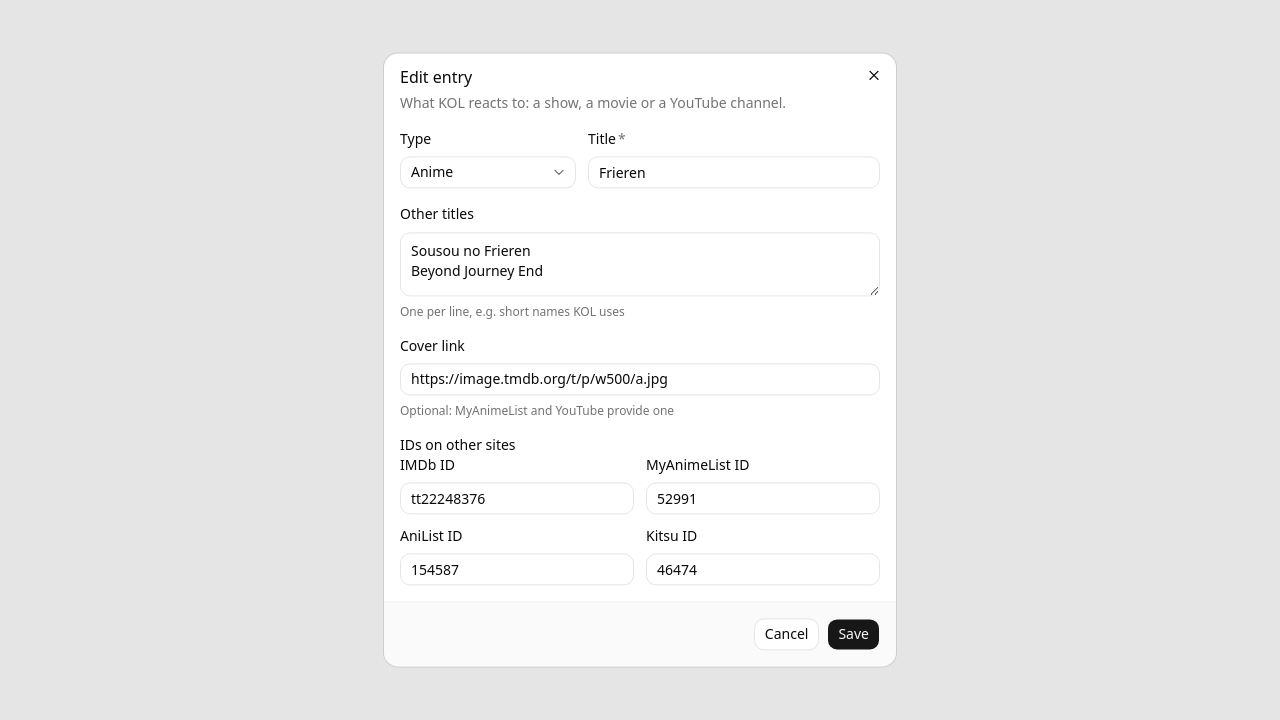
entryEditorDialog › shows why saving failed, under the form, and stays open
Click the button "Save".
click(854, 635)  # box [827,619,880,651]
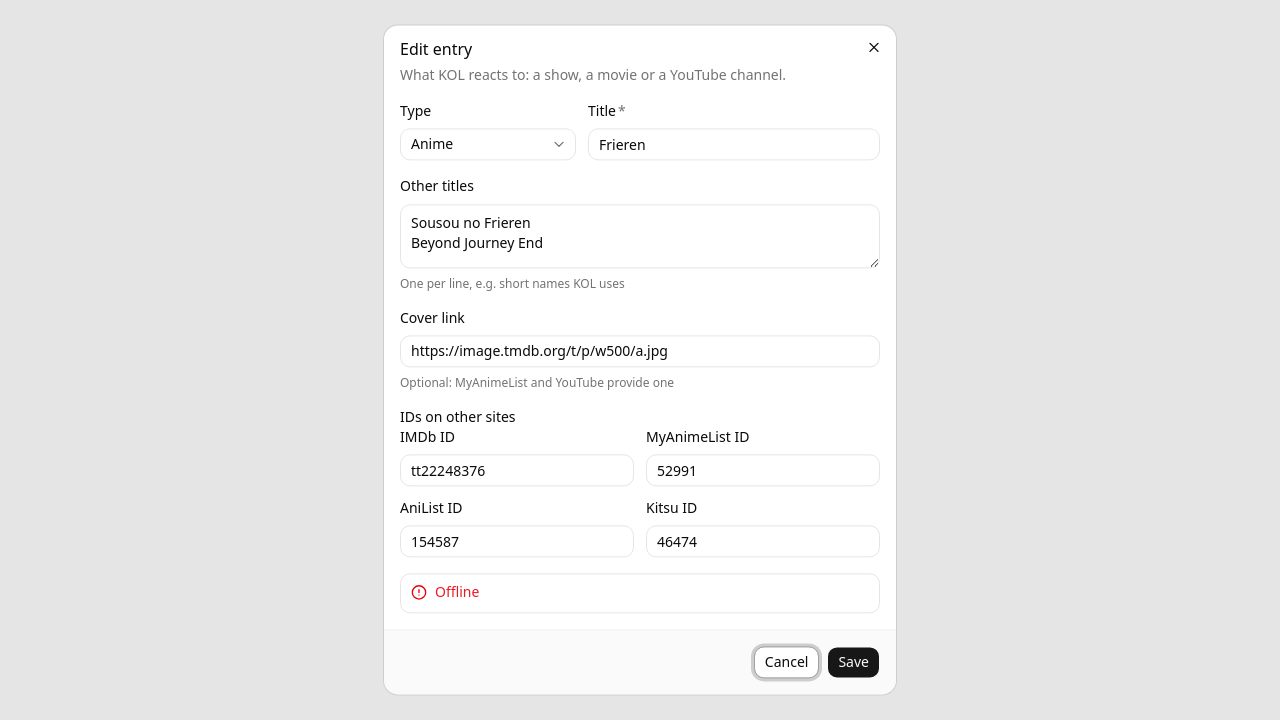
Expected: the button "Save" is enabled, [827,647,880,679]
Result: the message reads "Offline" at [435,583,479,602]
